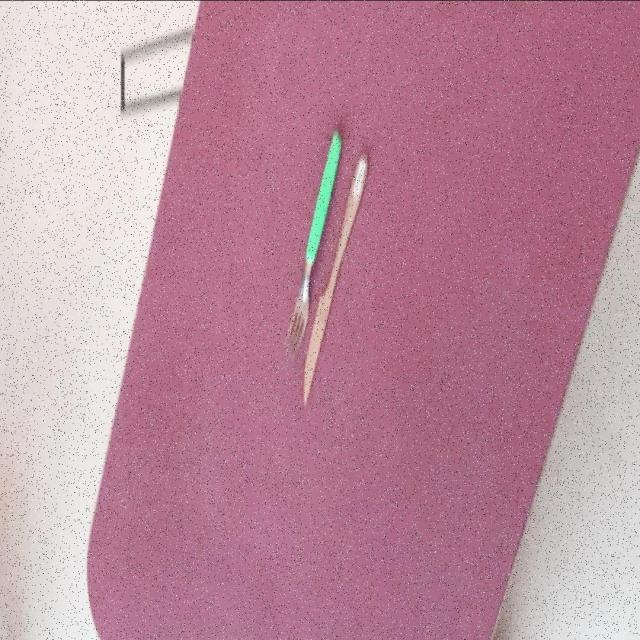Fork: (283, 127, 342, 360)
Knife: (301, 150, 369, 406)
